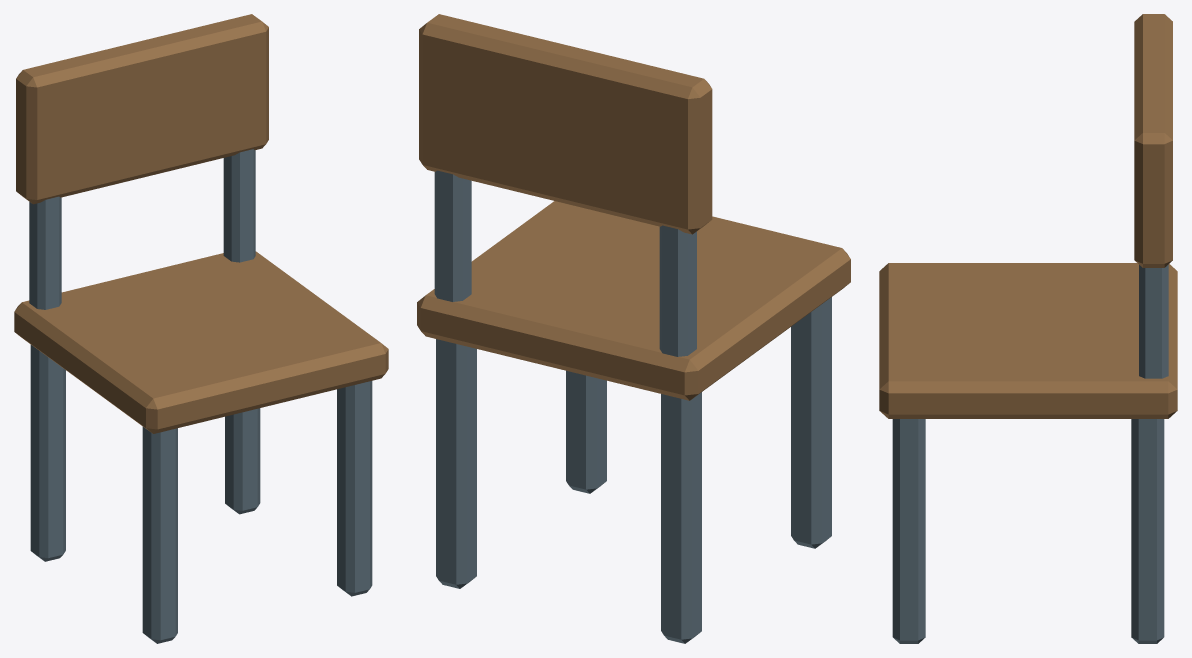
File: props-chair.lod0.glb
The picture shows the model from 3 angles, left to right: view 1: azimuth 30°, elevation 25°; view 2: azimuth 150°, elevation 25°; view 3: azimuth 270°, elevation 25°; orthographic projection. The views are drawn at different scales.
Visible parts, largest first — view 1: props-chair__body; view 2: props-chair__body; view 3: props-chair__body.
Part boxes in pixels (left/top/right/bottom): props-chair__body: left=14, top=14, right=388, bottom=643; props-chair__body: left=417, top=14, right=850, bottom=643; props-chair__body: left=879, top=14, right=1177, bottom=643.
Bounding box in the file's own units: 0.5 × 0.955 × 0.5.
